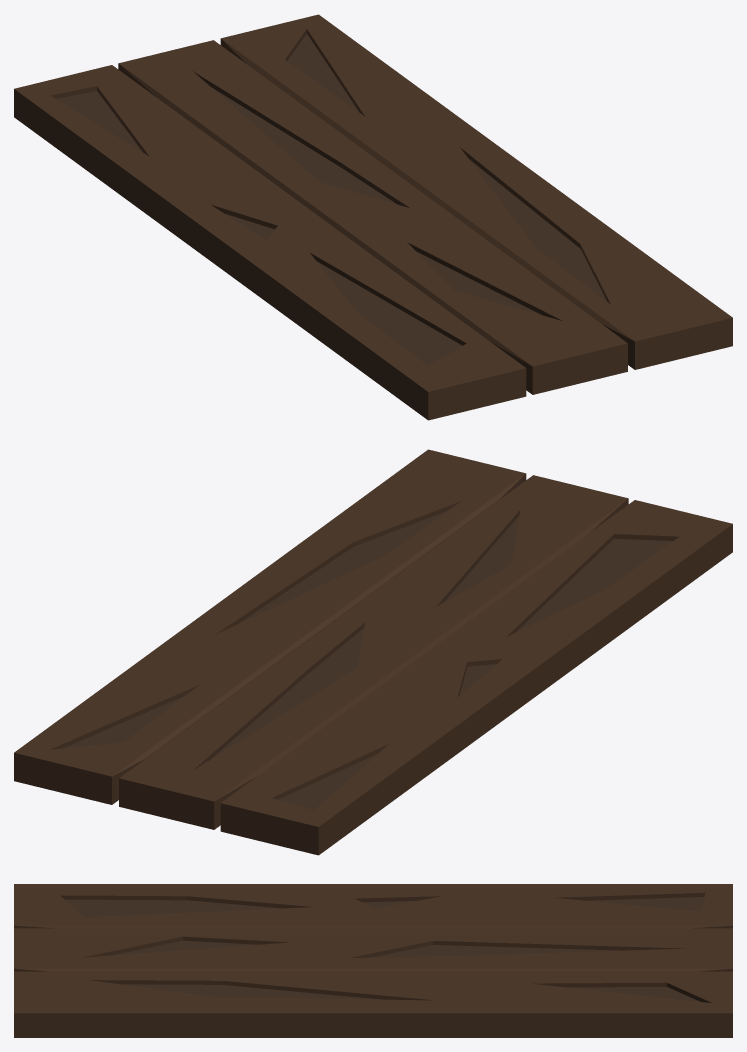
File: planche forteresse 2.fbx
3 renders of one model, top to bottom at view 1: azimuth 30°, elevation 25°; view 2: azimuth 150°, elevation 25°; view 3: azimuth 270°, elevation 25°, orthographic. The views are drawn at different scales.
Visible parts, largest first — view 1: Cube.001; view 2: Cube.001; view 3: Cube.001.
Part boxes in pixels (x1,y1,x2,y2): Cube.001: [14, 14, 732, 420]; Cube.001: [14, 449, 732, 855]; Cube.001: [14, 884, 732, 1037].
Bounding box in the file's own units: 456 × 40.74 × 1075.
